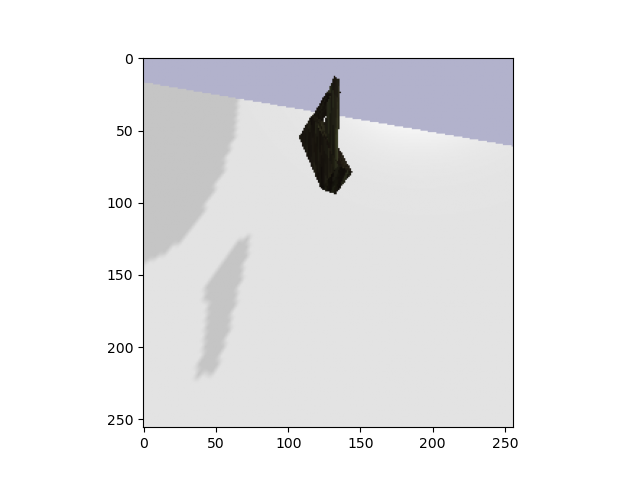v249b387_109: (288, 73, 360, 198)
